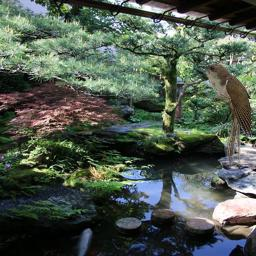Cuckoo: (196, 63, 252, 165)
